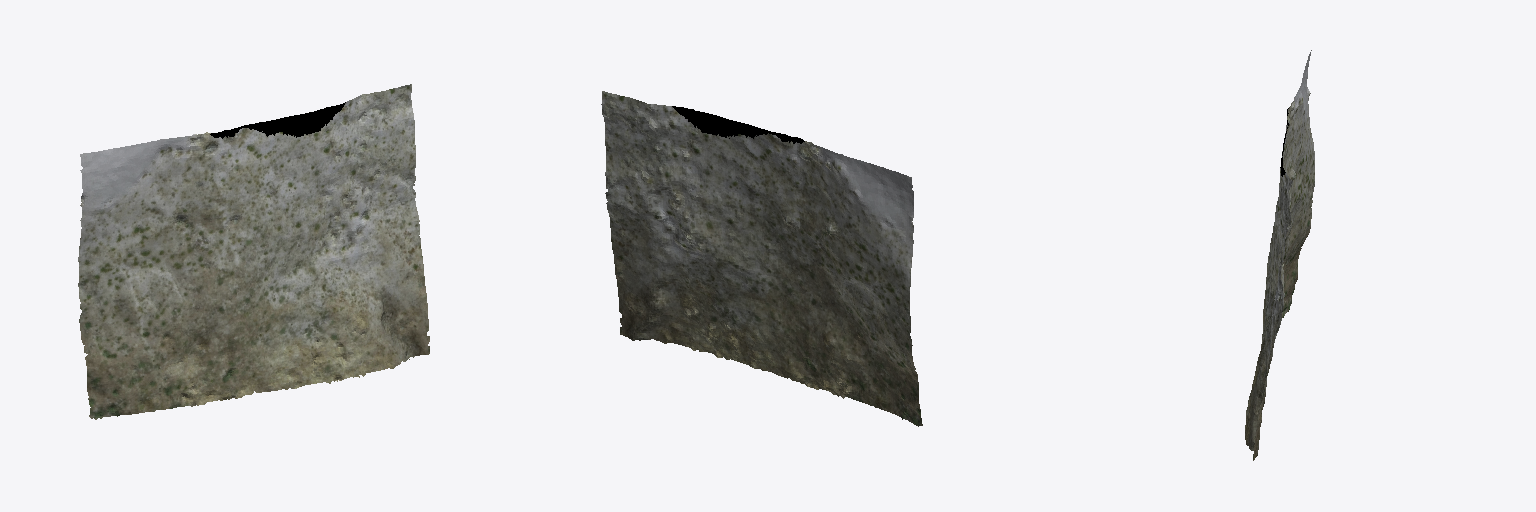
The picture shows the model from 3 angles: view 1: azimuth 30°, elevation 25°; view 2: azimuth 150°, elevation 25°; view 3: azimuth 270°, elevation 25°; orthographic projection.
Size of the model in its own units: 2.07 by 1.6 by 0.3947.
Materials: 1 (1 with a texture image).